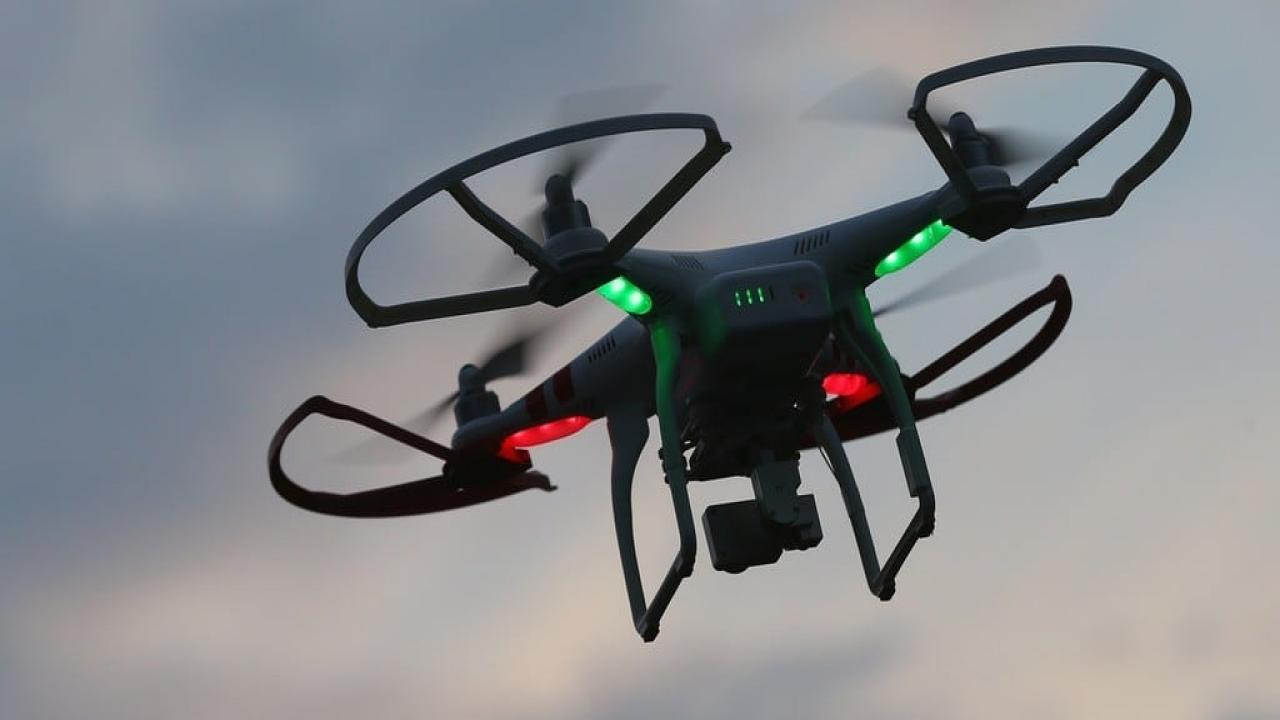Drone: (262, 39, 1200, 652)
